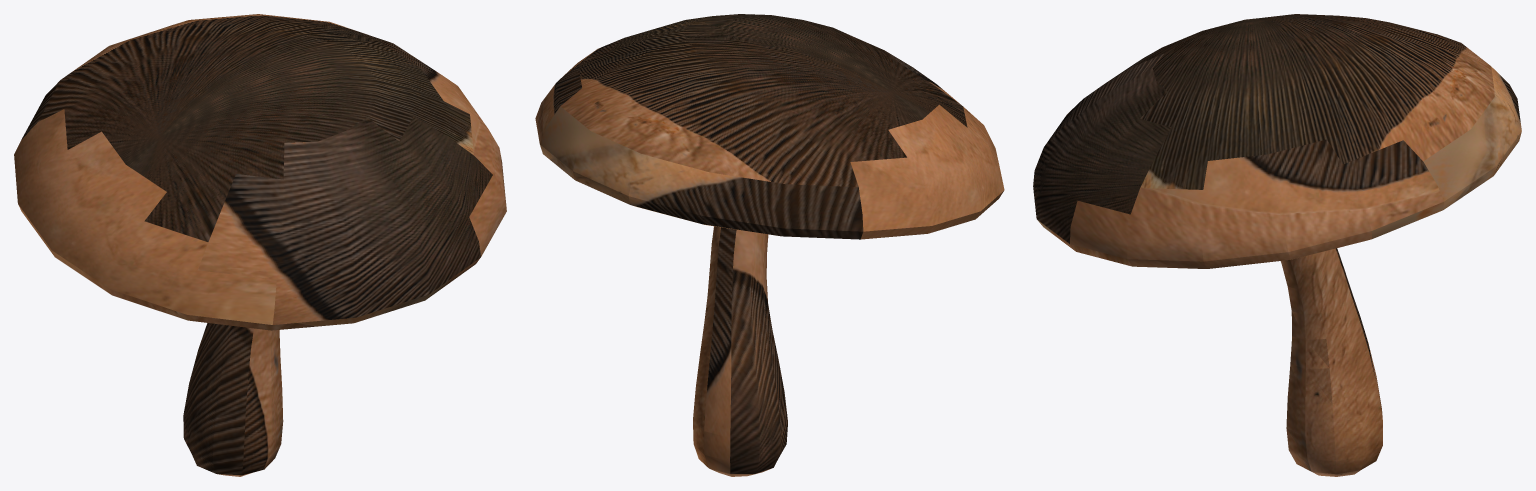
Rendered from MushroomBrownMedium_LOD0.dae.
3 views of the same model, side by side, from view 1: azimuth 30°, elevation 25°; view 2: azimuth 150°, elevation 25°; view 3: azimuth 270°, elevation 25° (orthographic). The views are drawn at different scales.
Parts seen in each view (by area): view 1: MushroomBrownMedium_LOD0; view 2: MushroomBrownMedium_LOD0; view 3: MushroomBrownMedium_LOD0.
Part boxes in pixels (x1,y1,x2,y2): MushroomBrownMedium_LOD0: (14,14,506,476); MushroomBrownMedium_LOD0: (535,14,1004,476); MushroomBrownMedium_LOD0: (1033,14,1521,476).
Size of the model in its own units: 0.2263 by 0.2161 by 0.2224.
